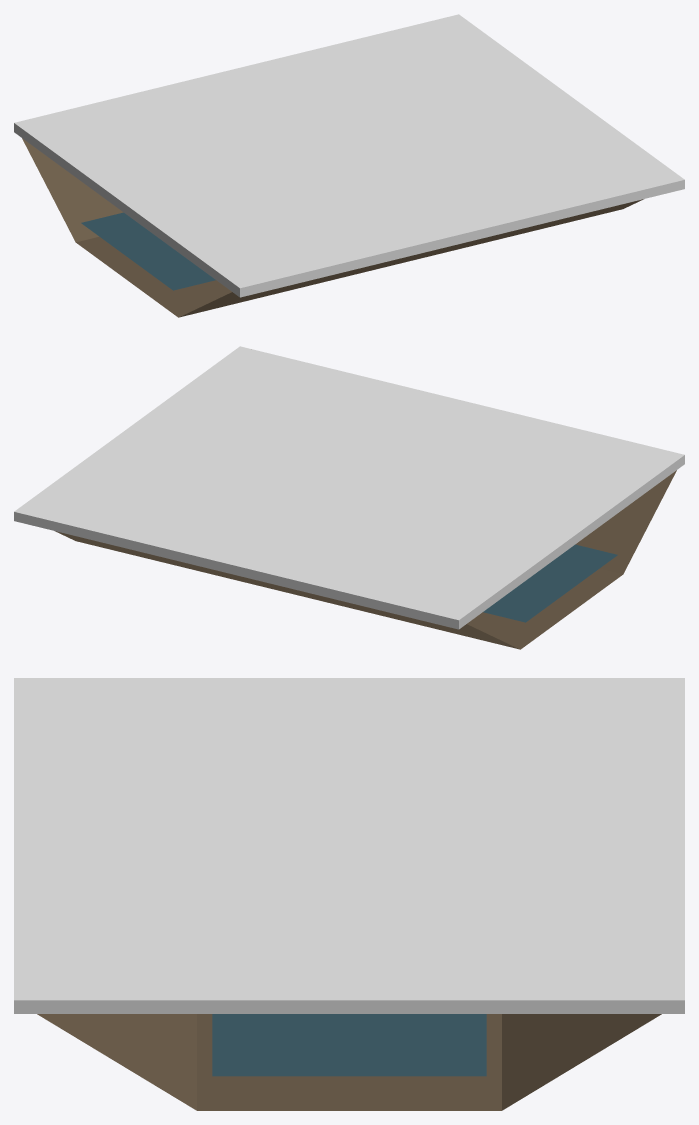
The model's file is ditch_2m.glb.
3 views of the same model, one above another, from view 1: azimuth 30°, elevation 25°; view 2: azimuth 150°, elevation 25°; view 3: azimuth 270°, elevation 25° (orthographic). The views are drawn at different scales.
Parts seen in each view (by area): view 1: ditch_2m-col, water, bed, bank.001, bank; view 2: ditch_2m-col, water, bed, bank, bank.001; view 3: ditch_2m-col, water, bed, bank, bank.001.
Part boxes in pixels (box(x1,y1,x2,y2)): ditch_2m-col: box(14, 14, 684, 297); water: box(81, 212, 215, 290); bed: box(76, 236, 231, 317); bank.001: box(22, 138, 123, 242); bank: box(179, 199, 643, 317); ditch_2m-col: box(14, 346, 684, 629); water: box(483, 544, 617, 622); bed: box(467, 568, 622, 649); bank: box(575, 470, 676, 574); bank.001: box(55, 531, 519, 649); ditch_2m-col: box(14, 678, 684, 1013); water: box(212, 1014, 486, 1076); bed: box(197, 1014, 501, 1110); bank: box(37, 1014, 196, 1110); bank.001: box(502, 1014, 661, 1110).
Size of the model in its own units: 5 by 0.8 by 4.4.
